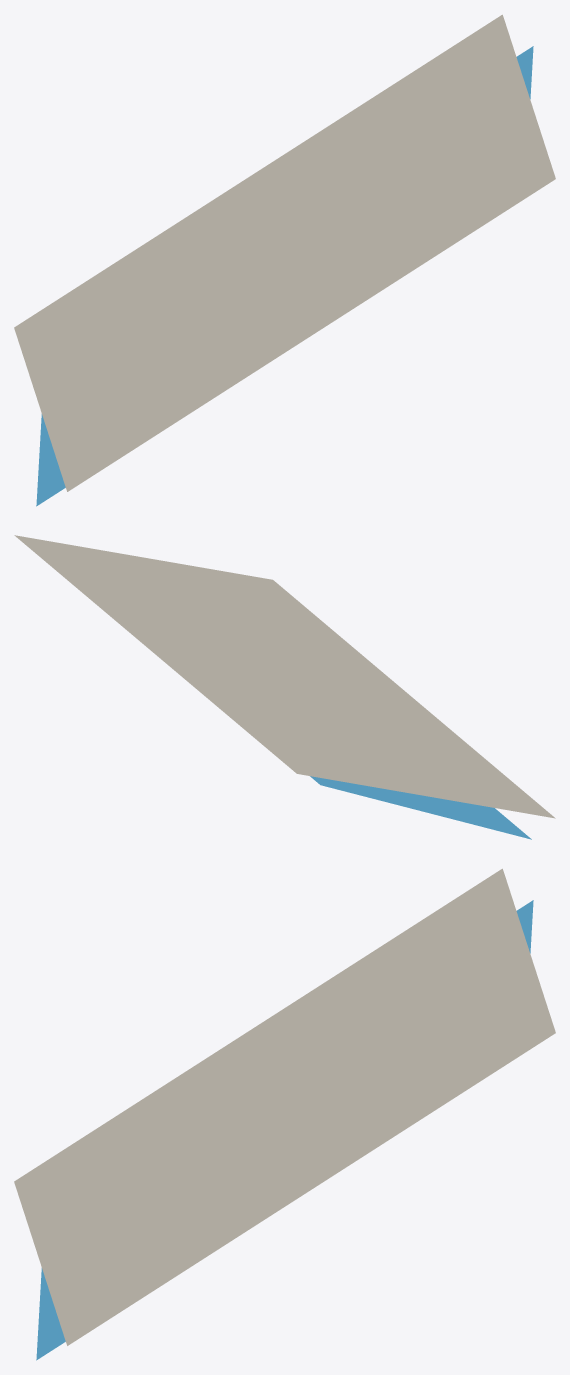
The picture shows the model from 3 angles, top to bottom: view 1: azimuth 90°, elevation 25°; view 2: azimuth 150°, elevation 25°; view 3: azimuth 270°, elevation 25°; orthographic projection. The views are drawn at different scales.
Parts seen in each view (by area): view 1: estructura_terreno, estructura_agua; view 2: estructura_terreno, estructura_agua; view 3: estructura_terreno, estructura_agua.
Boxes of the visible parts, x1=… form: estructura_terreno: x1=14, y1=14, x2=555, y2=491; estructura_agua: x1=36, y1=46, x2=533, y2=506; estructura_terreno: x1=14, y1=535, x2=555, y2=818; estructura_agua: x1=310, y1=776, x2=531, y2=839; estructura_terreno: x1=14, y1=868, x2=555, y2=1345; estructura_agua: x1=36, y1=900, x2=533, y2=1360.
Size of the model in its own units: 18.34 by 0.41 by 8.79.
